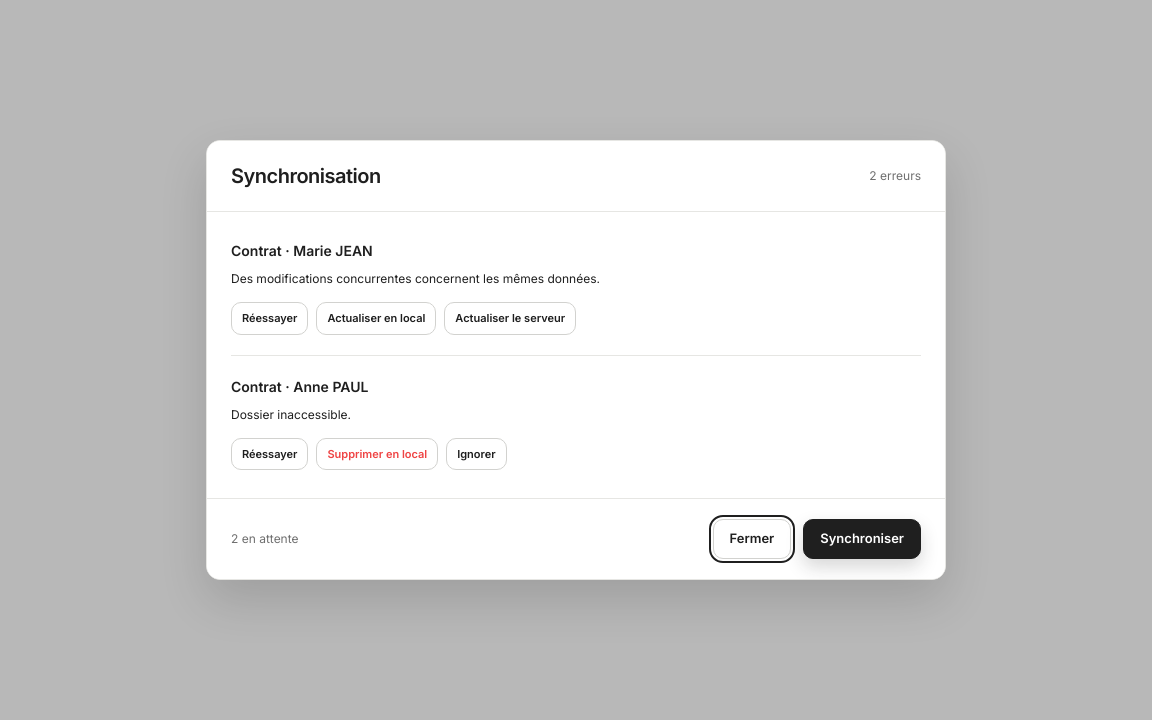
Test: retains a failed error and prevents simultaneous resolutions
Click the button "Réessayer" below "Contrat · Marie JEAN".
click(270, 318)  # box 231,302 -> 308,334
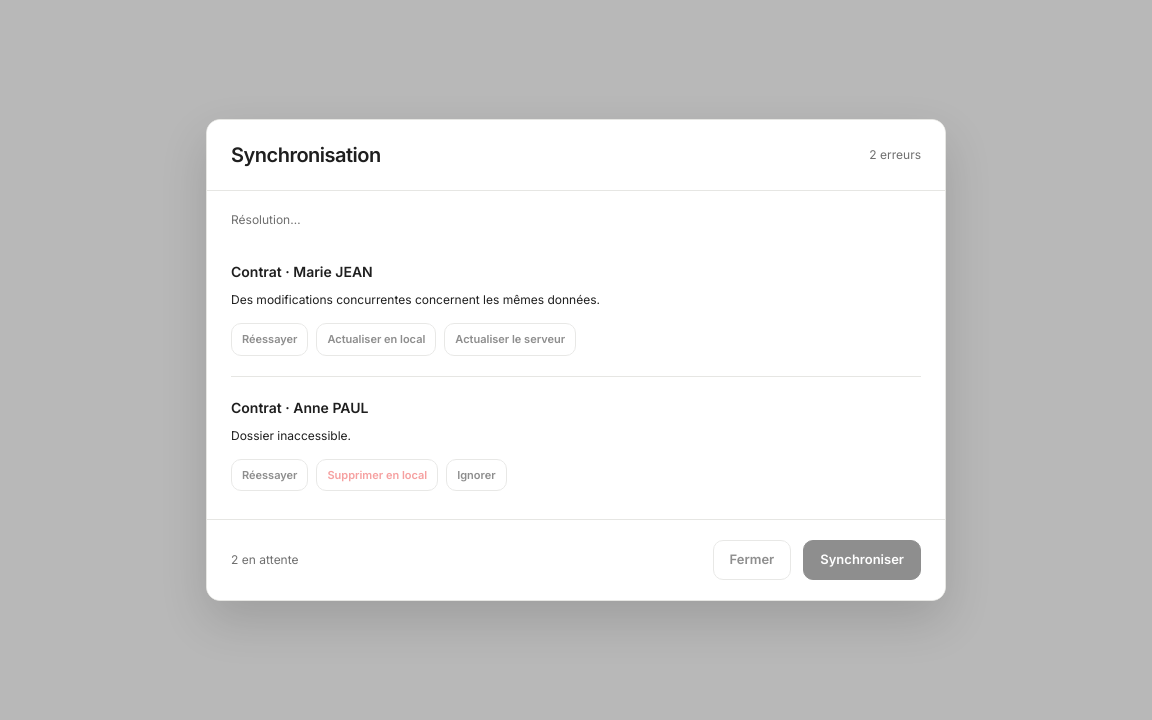
Check: the button "Fermer" is disabled, box 712,540 -> 791,580
Check: the button "Réessayer" below "Dossier inaccessible." is disabled
Click the button "Réessayer" below "Dossier inaccessible.".
click(270, 475)  # box 231,459 -> 308,491
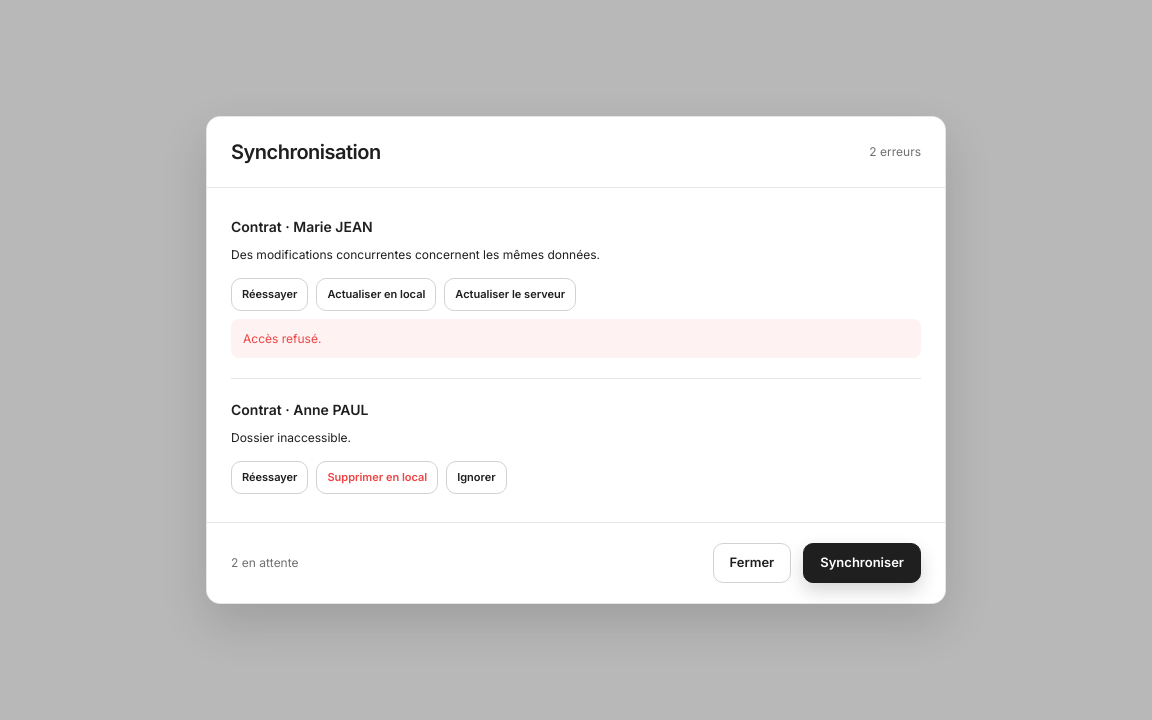
Check: the element "Contrat · Anne PAUL" is shown, box 231,401 -> 506,494
Check: the message reads "Accès refusé.", box 243,331 -> 321,346
Check: the button "Réessayer" below "Dossier inaccessible." is enabled, box 231,461 -> 308,494
